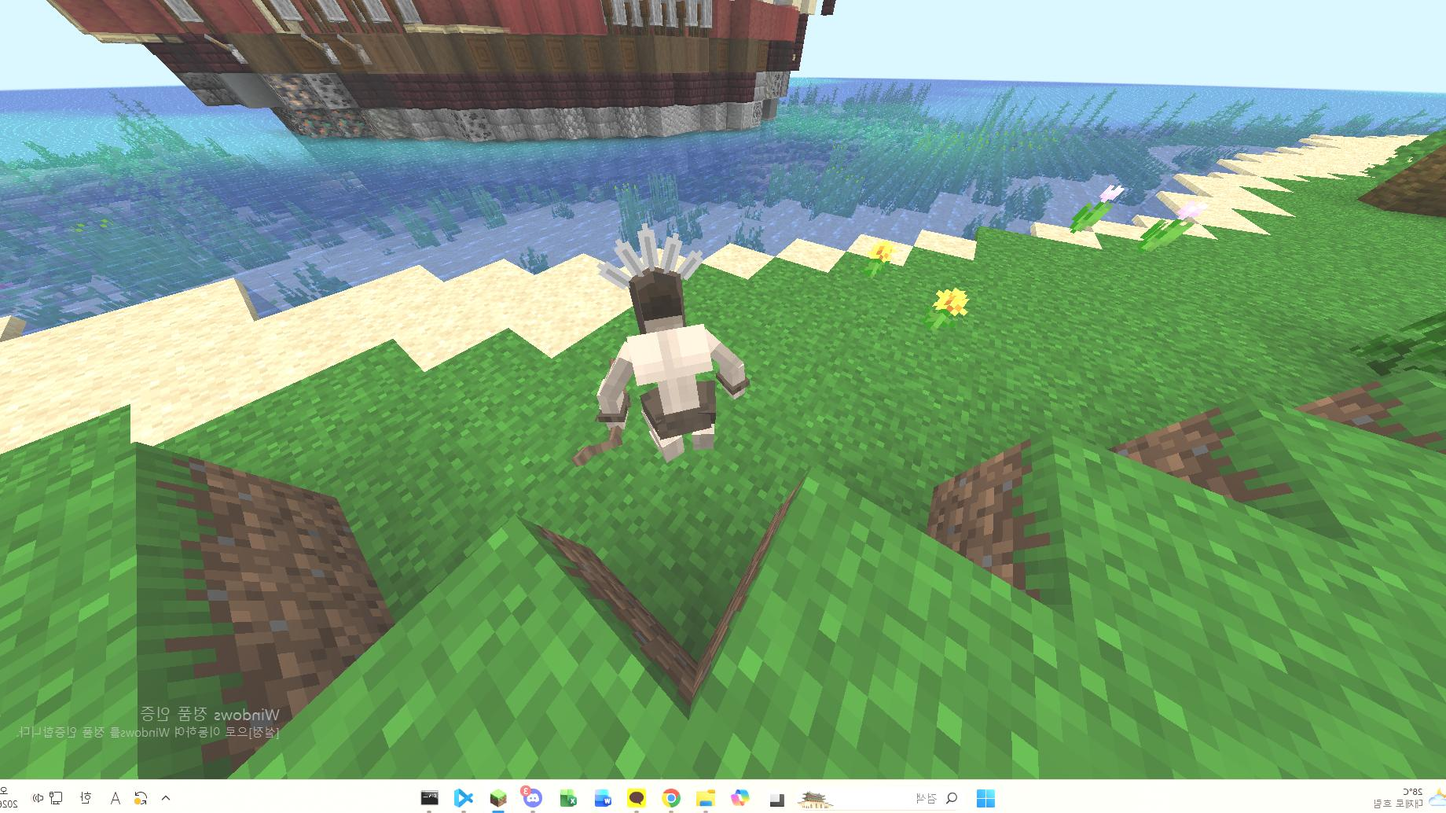bow_indian: (557, 237, 763, 487)
